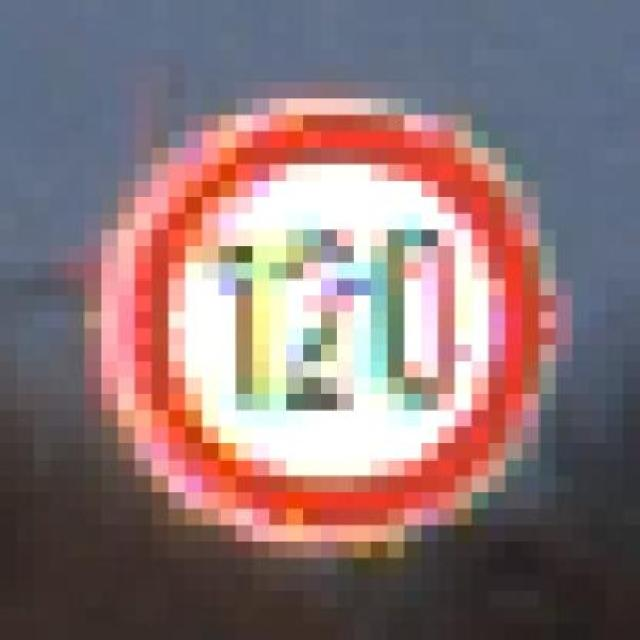forb_speed_over_120: (120, 110, 549, 541)
